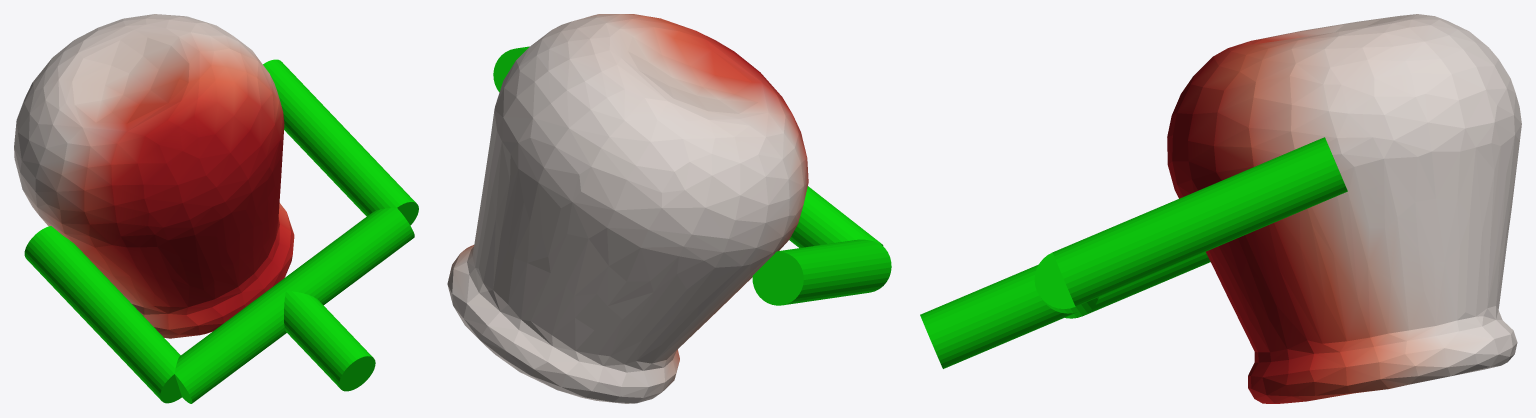
Rendered from round_000_trial_001.obj.
3 views of the same model, side by side, from view 1: azimuth 30°, elevation 25°; view 2: azimuth 150°, elevation 25°; view 3: azimuth 270°, elevation 25° (orthographic). The views are drawn at different scales.
Visible parts, largest first — view 1: geometry_0, geometry_1; view 2: geometry_0, geometry_1; view 3: geometry_0, geometry_1.
Part boxes in pixels (x1,y1,x2,y2): geometry_0: [14, 14, 294, 338]; geometry_1: [24, 59, 418, 403]; geometry_0: [447, 14, 808, 403]; geometry_1: [493, 46, 891, 305]; geometry_0: [1167, 14, 1521, 403]; geometry_1: [920, 137, 1347, 368].
Size of the model in its own units: 0.0736 by 0.0708 by 0.1018.
